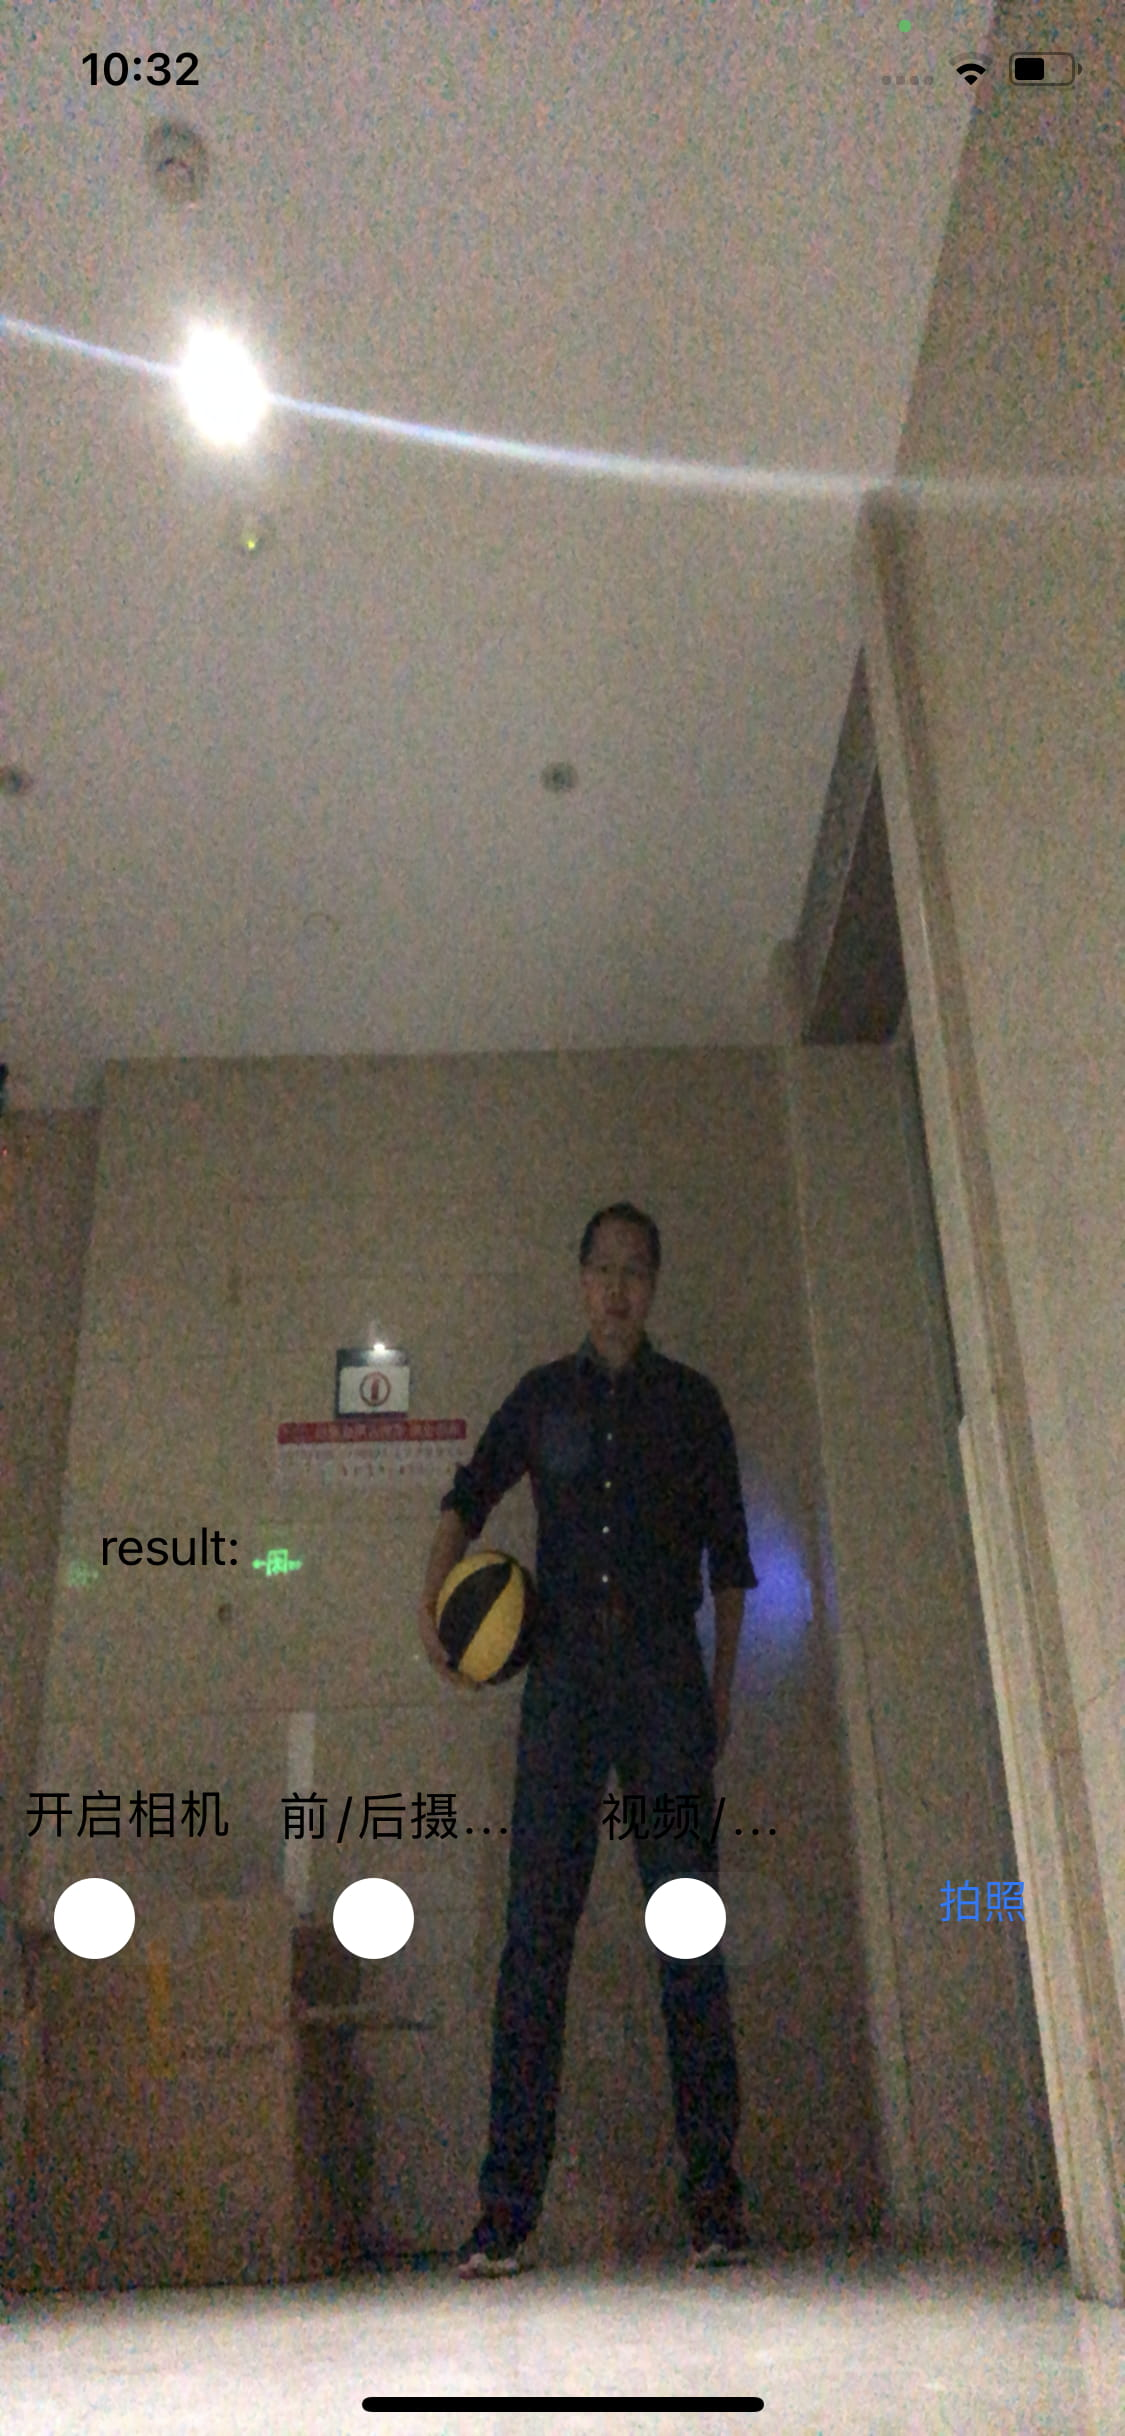ball: (435, 1546, 542, 1686)
